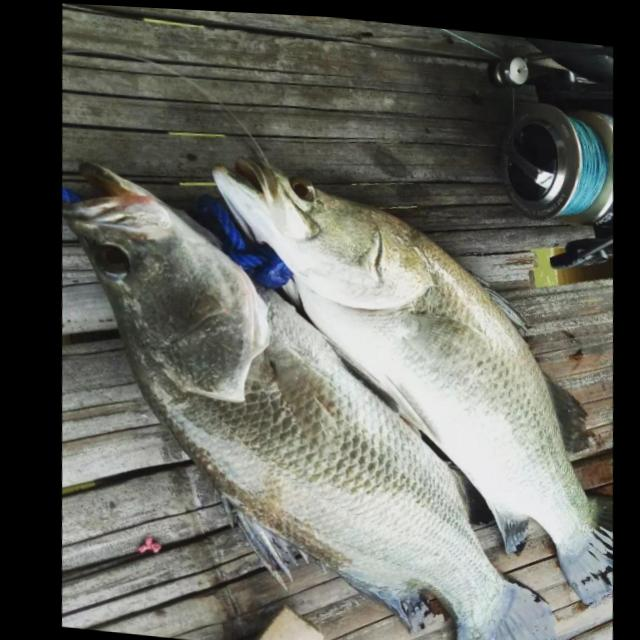Seabass: (35, 155, 576, 640), (191, 158, 633, 607)
